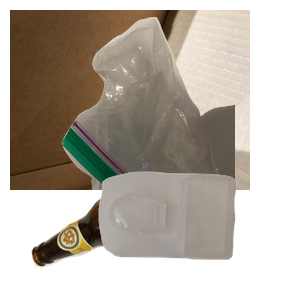cardboard: (10, 10, 250, 190)
glass: (29, 150, 238, 300)
plastic: (96, 169, 300, 300)
trash: (60, 14, 300, 194)
